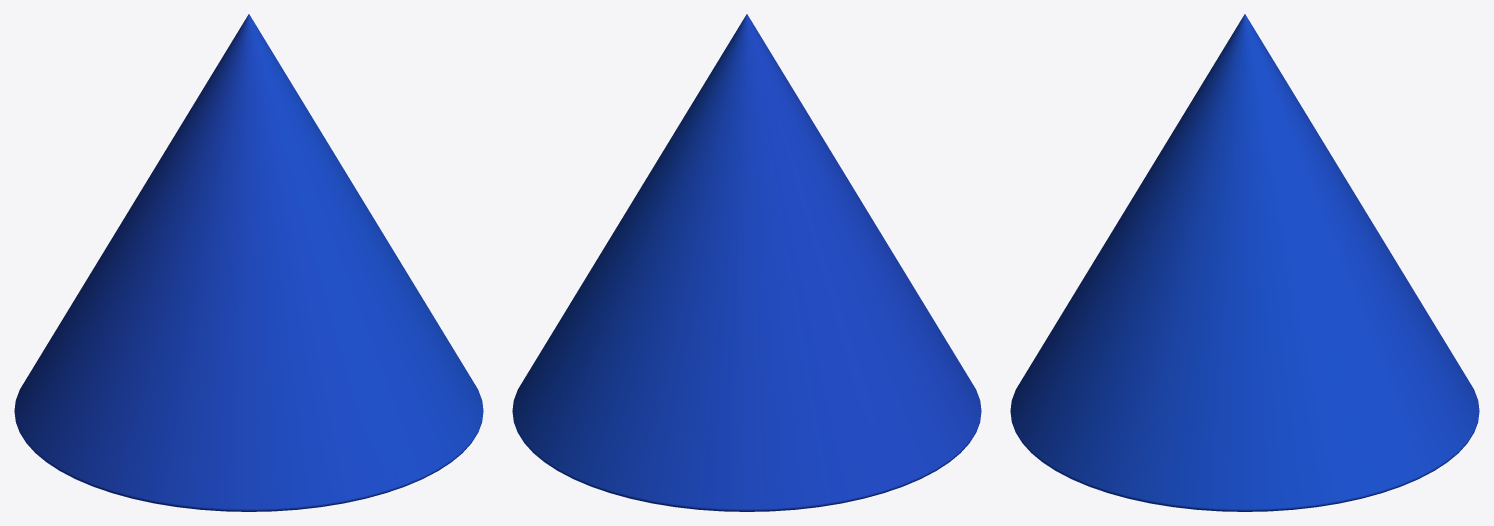
Rendered from arrow (3).fbx.
3 views of the same model, side by side, from view 1: azimuth 30°, elevation 25°; view 2: azimuth 150°, elevation 25°; view 3: azimuth 270°, elevation 25° (orthographic).
Parts seen in each view (by area): view 1: node_id30; view 2: node_id30; view 3: node_id30.
Boxes of the visible parts, <box> form: node_id30: <box>14,14,483,511</box>; node_id30: <box>512,14,981,511</box>; node_id30: <box>1010,14,1479,511</box>.
Bounding box in the file's own units: 0.512 × 0.4814 × 0.512.
1 material, 1 textured.
